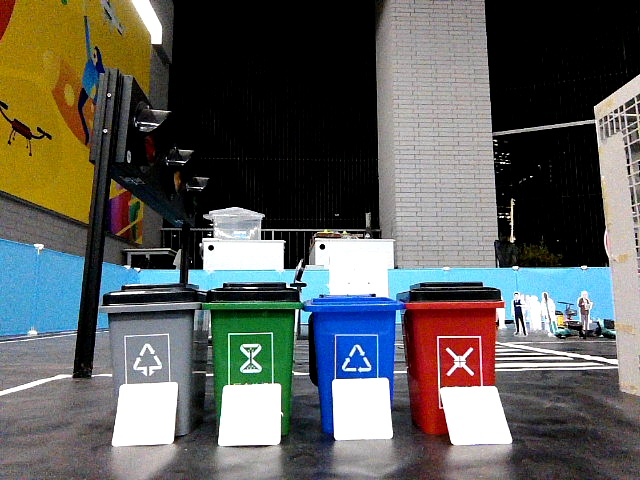blue_open: (314, 291, 391, 374)
green_close: (212, 283, 286, 382)
grey_close: (109, 280, 201, 375)
red_close: (400, 283, 496, 385)
